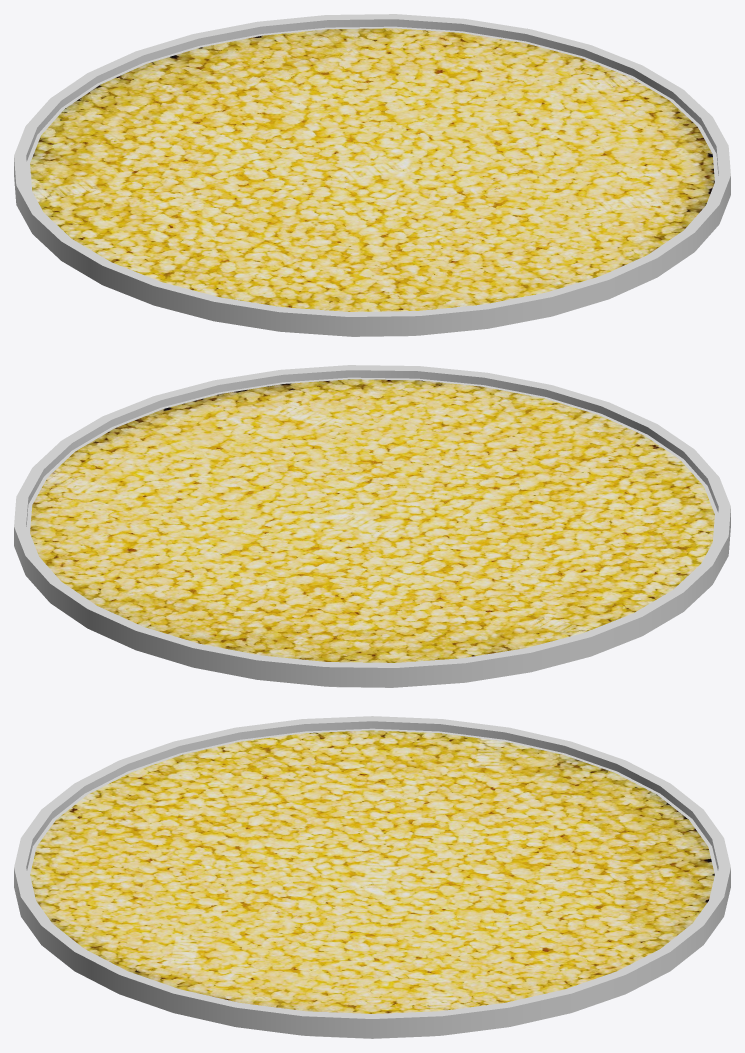
File: couscous.fbx
3 views of the same model, one above another, from view 1: azimuth 30°, elevation 25°; view 2: azimuth 150°, elevation 25°; view 3: azimuth 270°, elevation 25° (orthographic).
Parts seen in each view (by area): view 1: Cylinder; view 2: Cylinder; view 3: Cylinder.
Boxes of the visible parts, x1,y1,x2,y2 form: Cylinder: (14,14,730,336); Cylinder: (14,365,730,687); Cylinder: (14,716,730,1038).
Bounding box in the file's own units: 50 × 3.45 × 50.
